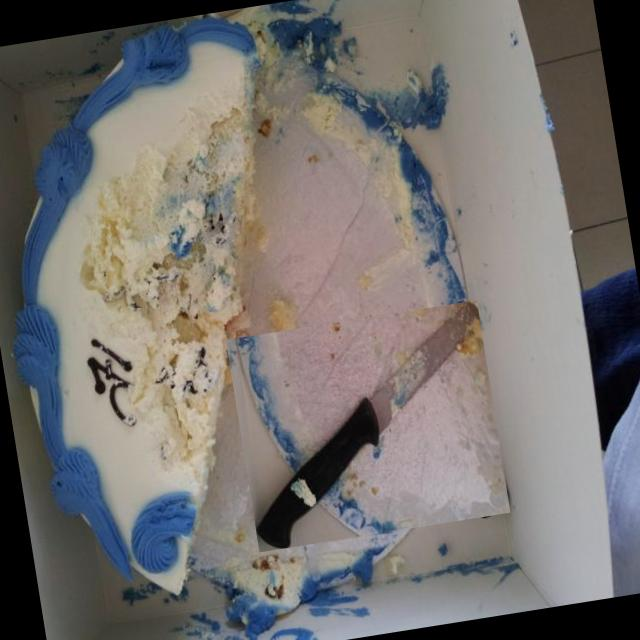Knife: (257, 303, 480, 549)
